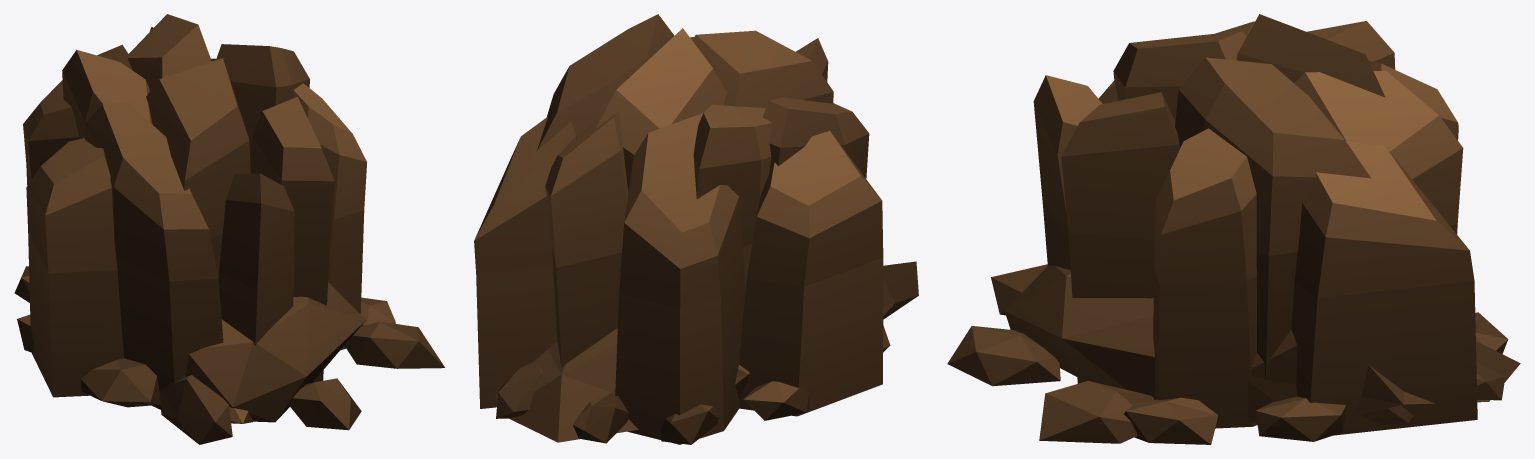
File: huge-rock.glb
3 views of the same model, side by side, from view 1: azimuth 30°, elevation 25°; view 2: azimuth 150°, elevation 25°; view 3: azimuth 270°, elevation 25° (orthographic). The views are drawn at different scales.
Visible parts, largest first — view 1: huge-rock; view 2: huge-rock; view 3: huge-rock.
Part boxes in pixels (x1=…): huge-rock: x1=14, y1=14, x2=444, y2=444; huge-rock: x1=474, y1=14, x2=918, y2=444; huge-rock: x1=947, y1=14, x2=1520, y2=444.
Bounding box in the file's own units: 2.12 × 1.96 × 2.89.
